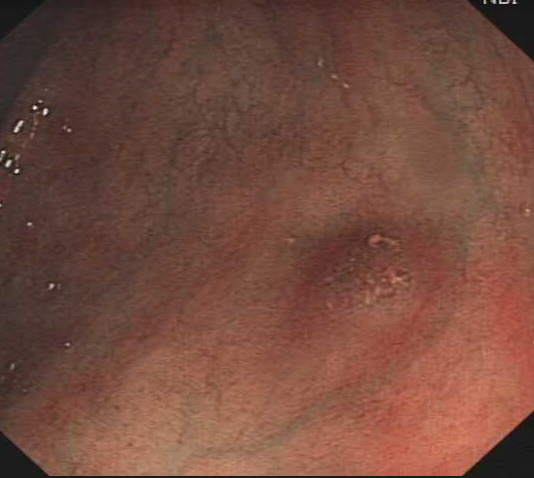others: (311, 227, 424, 337)
